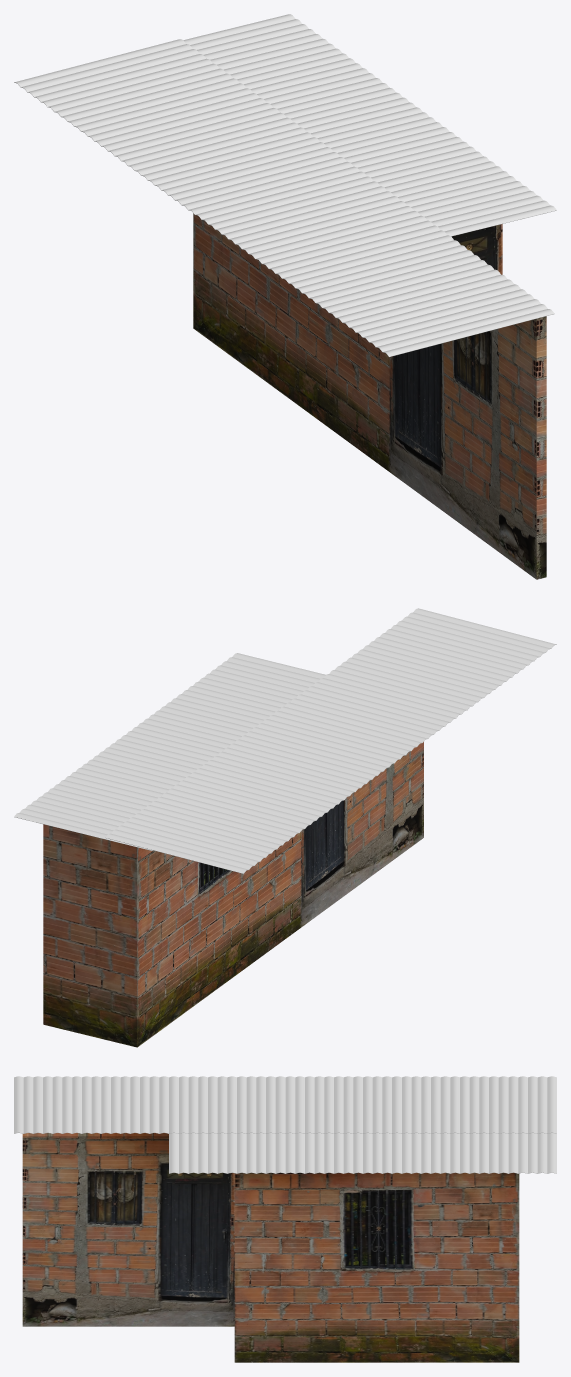
Rendered from casa_derecha_05.fbx.
The picture shows the model from 3 angles, top to bottom: view 1: azimuth 30°, elevation 25°; view 2: azimuth 150°, elevation 25°; view 3: azimuth 270°, elevation 25°; orthographic projection. The views are drawn at different scales.
Parts seen in each view (by area): view 1: Techo_05, casa_derecha_05.001; view 2: Techo_05, casa_derecha_05.001; view 3: casa_derecha_05.001, Techo_05.
Part boxes in pixels (x1=…): Techo_05: x1=14, y1=14, x2=556, y2=357; casa_derecha_05.001: x1=193, y1=213, x2=546, y2=579; Techo_05: x1=14, y1=608, x2=556, y2=873; casa_derecha_05.001: x1=43, y1=742, x2=423, y2=1047; casa_derecha_05.001: x1=22, y1=1133, x2=519, y2=1362; Techo_05: x1=14, y1=1076, x2=556, y2=1173.
Size of the model in its own units: 575 by 537 by 1358.
